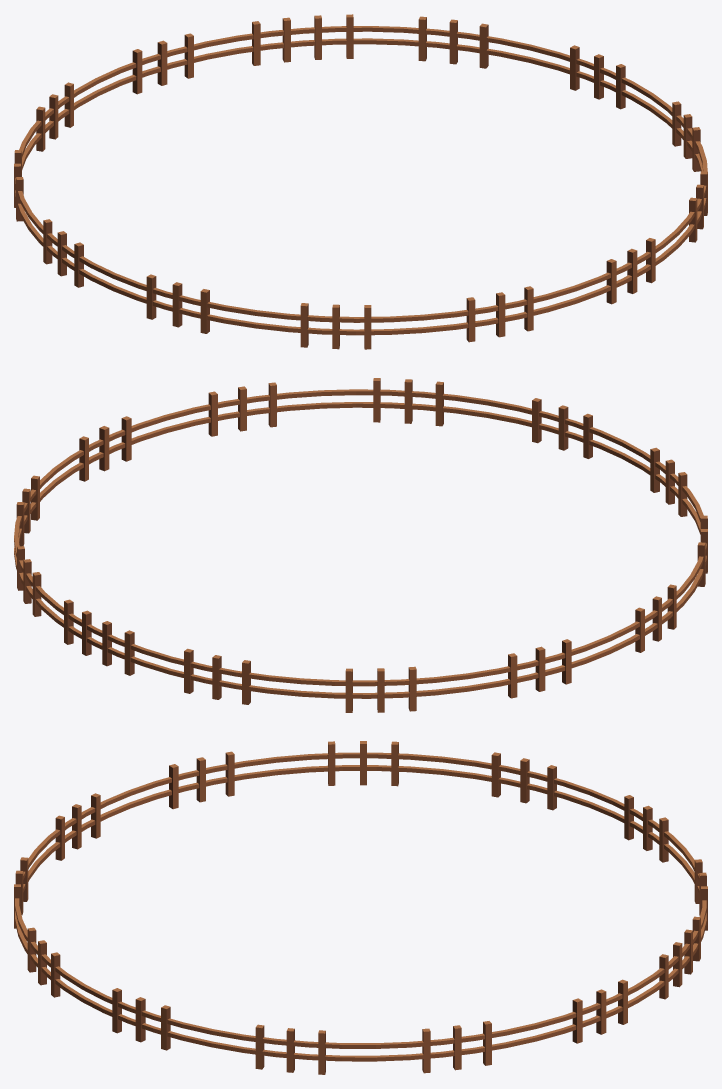
Rendered from Aerrena Fance.fbx.
3 renders of one model, top to bottom at view 1: azimuth 30°, elevation 25°; view 2: azimuth 150°, elevation 25°; view 3: azimuth 270°, elevation 25°, orthographic.
Parts seen in each view (by area): view 1: Prop_Pig_Pen; view 2: Prop_Pig_Pen; view 3: Prop_Pig_Pen.
Part boxes in pixels (left/top/right/bottom): Prop_Pig_Pen: left=14, top=14, right=707, bottom=349; Prop_Pig_Pen: left=14, top=378, right=707, bottom=712; Prop_Pig_Pen: left=14, top=741, right=707, bottom=1074.
Size of the model in its own units: 1403 by 92.51 by 1405.
